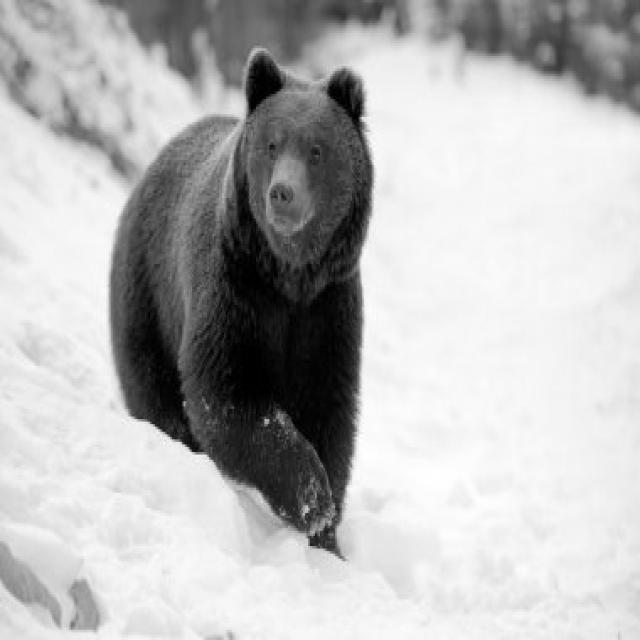Animal: (110, 49, 372, 553)
